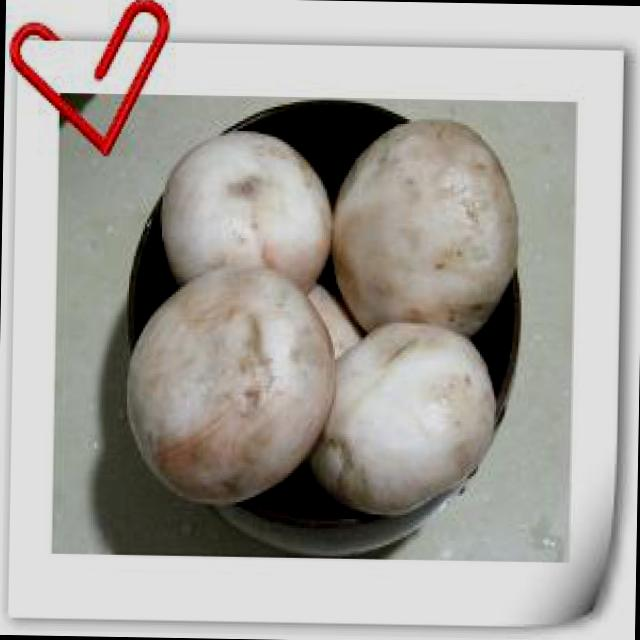Agaricus bisporus: (125, 270, 347, 508), (324, 128, 522, 323), (316, 327, 501, 500), (156, 133, 333, 290)
